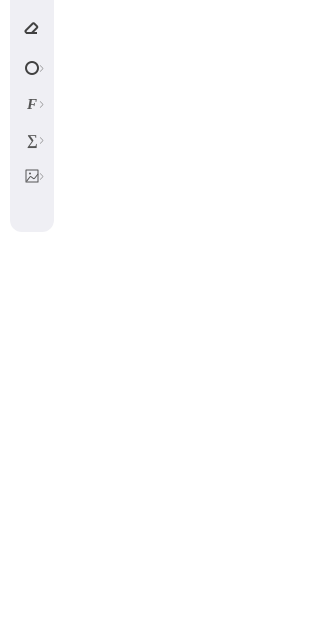
Test case: WhiteBoard.vue › §4.9.2 工具栏 IA 分类收纳 › 标注组面板含受力预设芯片（F3.1 收纳不丢）
Click the element with test id "wb-group-cue-annotate" at (41, 104), box [36,100,46,108]
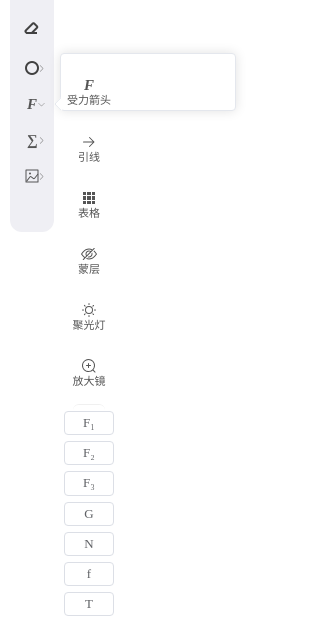
Check: the text "F₁" is shown, box [64,411,114,435]
